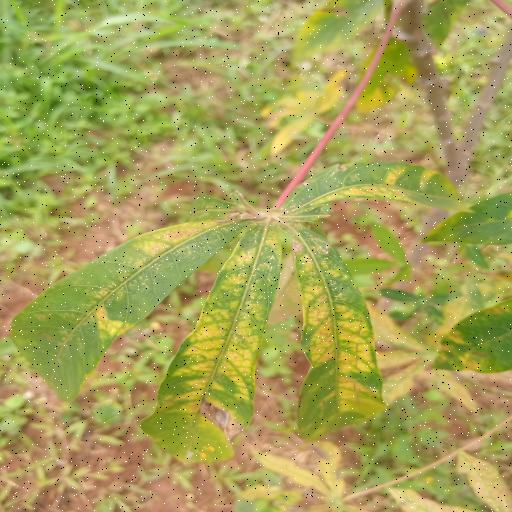Cassava_Mosaic: (8, 147, 474, 471)
